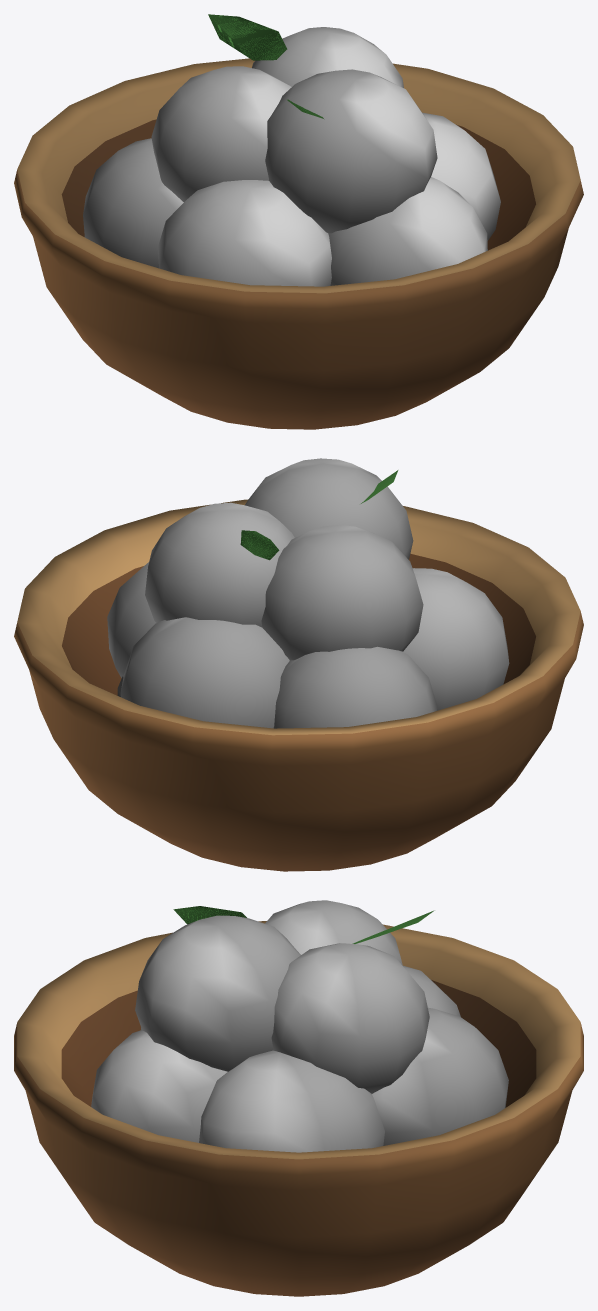
The model's file is Bowl_Master.glb.
3 renders of one model, top to bottom at view 1: azimuth 30°, elevation 25°; view 2: azimuth 150°, elevation 25°; view 3: azimuth 270°, elevation 25°, orthographic.
Parts seen in each view (by area): view 1: Berry_Bowl_Master_EXP; view 2: Berry_Bowl_Master_EXP; view 3: Berry_Bowl_Master_EXP.
Boxes of the visible parts, left/top/right/bottom form: Berry_Bowl_Master_EXP: left=14, top=14, right=583, bottom=429; Berry_Bowl_Master_EXP: left=14, top=458, right=583, bottom=871; Berry_Bowl_Master_EXP: left=14, top=900, right=583, bottom=1296.
Bounding box in the file's own units: 0.692 × 0.4512 × 0.685.
